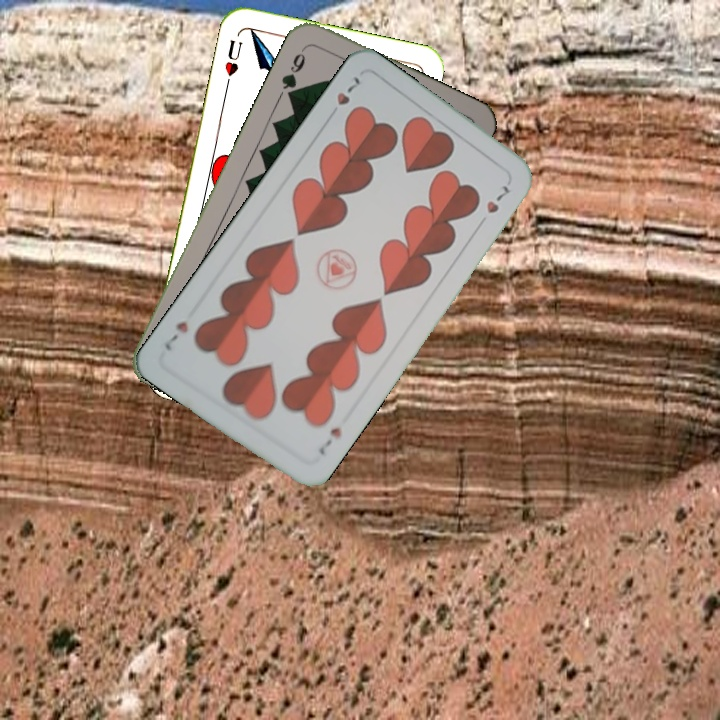G9: (277, 43, 309, 102)
H7: (324, 72, 363, 122), (314, 423, 344, 458)
HU: (220, 35, 245, 79)
